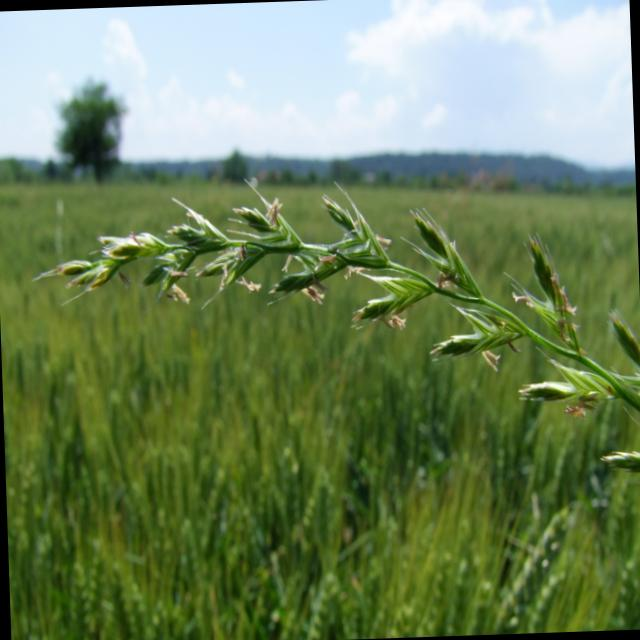Lolium: (25, 161, 640, 510)
